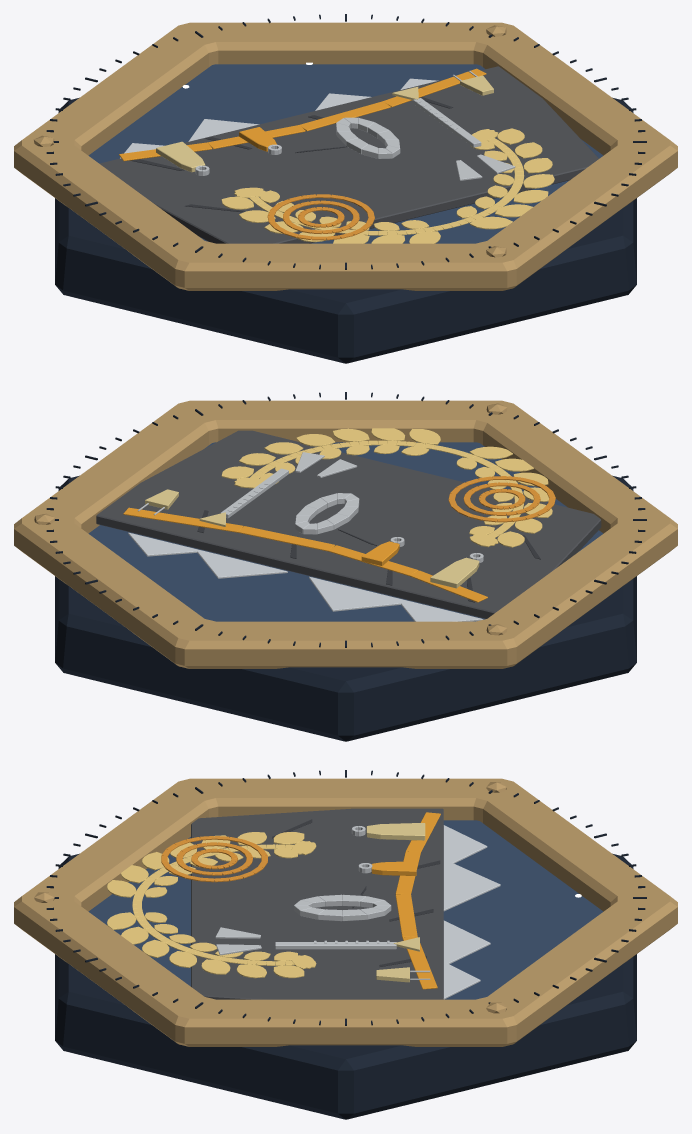
The model's file is tech_grad.glb.
3 renders of one model, top to bottom at view 1: azimuth 30°, elevation 25°; view 2: azimuth 150°, elevation 25°; view 3: azimuth 270°, elevation 25°, orthographic.
Visible parts, largest first — view 1: BG_FrameRing, TG_Wall, BG_BasePlate, TG_Sky, TG_LeavesR, TG_LeavesL, TG_Sling, TG_RopeCoil, TG_Carabiner, TG_Peaks, BG_TickScale, TG_StemR (+7 smaller); view 2: BG_FrameRing, TG_Wall, BG_BasePlate, TG_Sky, TG_Peaks, TG_LeavesR, TG_LeavesL, TG_Sling, TG_RopeCoil, TG_Carabiner, BG_TickScale, TG_StemR (+8 smaller); view 3: BG_FrameRing, BG_BasePlate, TG_Wall, TG_Sky, TG_Peaks, TG_LeavesR, TG_LeavesL, TG_RopeCoil, TG_Sling, TG_Carabiner, BG_TickScale, TG_StemR (+7 smaller).
Boxes of the visible parts, x1,y1,x2,y2 form: BG_FrameRing: (14, 22, 677, 290); TG_Wall: (99, 66, 598, 243); BG_BasePlate: (55, 97, 636, 363); TG_Sky: (88, 64, 603, 243); TG_LeavesR: (456, 128, 554, 229); TG_LeavesL: (221, 190, 440, 243); TG_Sling: (119, 68, 486, 161); TG_RopeCoil: (267, 194, 374, 240); TG_Carabiner: (336, 117, 400, 158); TG_Peaks: (120, 78, 438, 158); BG_TickScale: (46, 14, 646, 269); TG_StemR: (448, 138, 524, 227); BG_FrameRing: (14, 400, 677, 668); TG_Wall: (96, 430, 601, 618); BG_BasePlate: (55, 475, 636, 741); TG_Sky: (88, 442, 603, 621); TG_Peaks: (128, 532, 483, 621); TG_LeavesR: (221, 428, 440, 484); TG_LeavesL: (456, 446, 552, 547); TG_Sling: (123, 507, 487, 602); TG_RopeCoil: (448, 476, 555, 522); TG_Carabiner: (295, 493, 359, 534); BG_TickScale: (46, 392, 646, 647); TG_StemR: (250, 440, 452, 478); BG_FrameRing: (14, 778, 677, 1046); BG_BasePlate: (55, 853, 636, 1119); TG_Wall: (191, 808, 443, 999); TG_Sky: (88, 820, 603, 999); TG_Peaks: (443, 825, 500, 999); TG_LeavesR: (107, 912, 304, 978); TG_LeavesL: (107, 832, 304, 897); TG_RopeCoil: (161, 836, 267, 882); TG_Sling: (395, 812, 440, 989); TG_Carabiner: (294, 894, 391, 921); BG_TickScale: (46, 770, 646, 1025); TG_StemR: (132, 904, 294, 965).
Size of the model in its own units: 0.0393 by 0.00585 by 0.0394.
